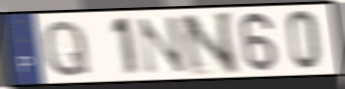0: (286, 9, 326, 73)
1: (111, 16, 141, 77)
6: (238, 11, 279, 74)
N: (178, 9, 241, 78), (136, 14, 189, 76)
Q: (42, 17, 93, 79)
